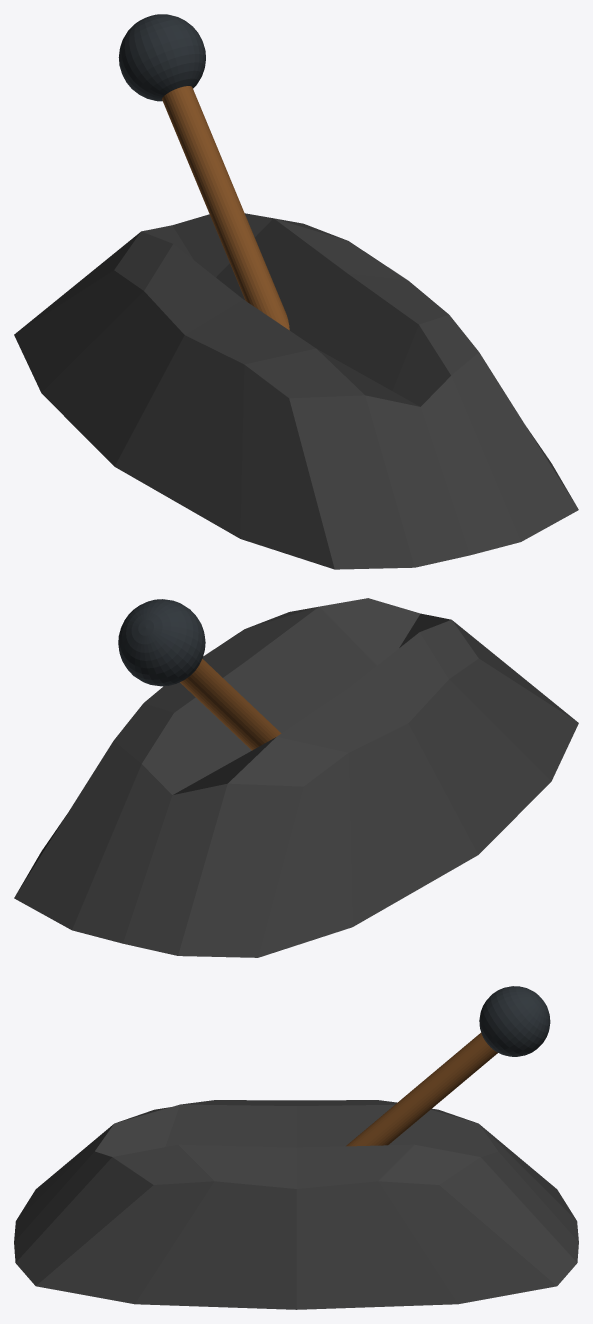
Rendered from lever.fbx.
3 views of the same model, one above another, from view 1: azimuth 30°, elevation 25°; view 2: azimuth 150°, elevation 25°; view 3: azimuth 270°, elevation 25° (orthographic). The views are drawn at different scales.
Parts seen in each view (by area): view 1: base, handle; view 2: base, handle; view 3: base, handle.
Boxes of the visible parts, bbox=[...] form: base: bbox=[14, 213, 578, 569]; handle: bbox=[118, 14, 289, 330]; base: bbox=[14, 598, 578, 957]; handle: bbox=[118, 599, 281, 750]; base: bbox=[14, 1100, 578, 1309]; handle: bbox=[346, 986, 550, 1146].
Bounding box in the file's own units: 272 × 235 × 450.
